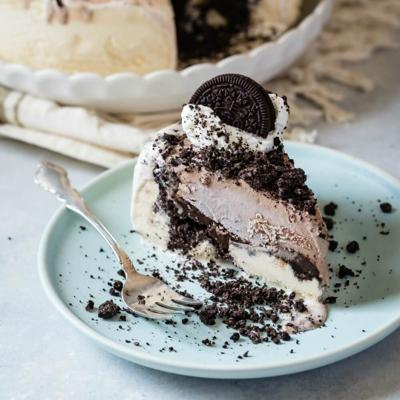cake: (127, 104, 336, 315)
